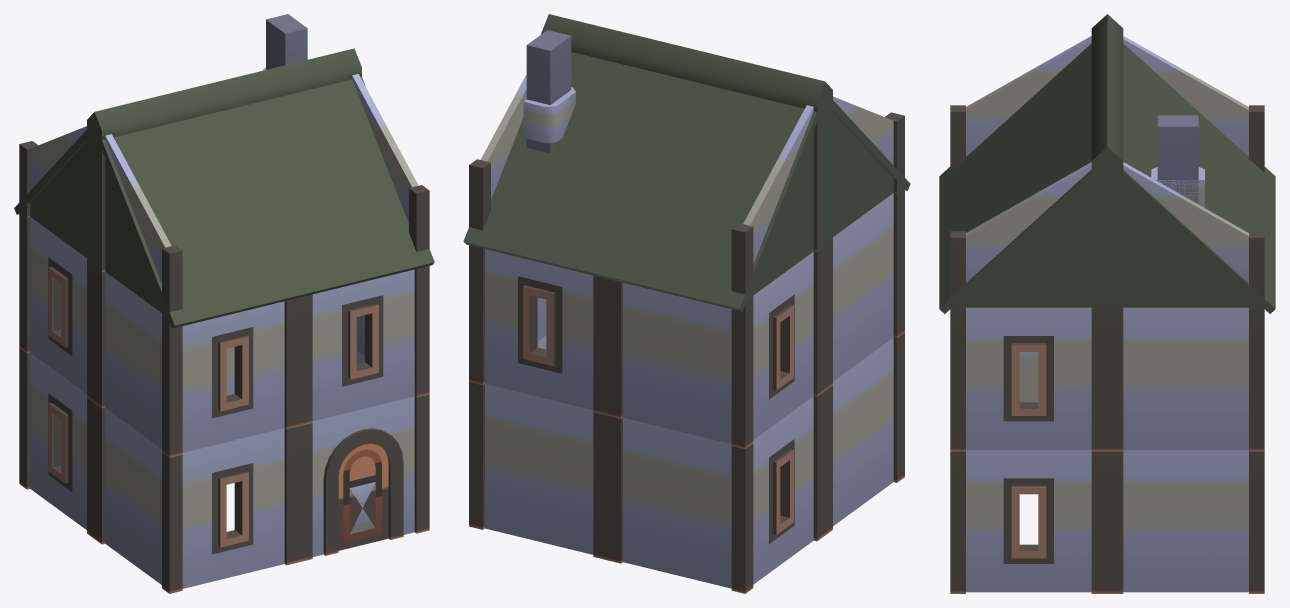
Rendered from maison-elcres-2.glb.
3 views of the same model, side by side, from view 1: azimuth 30°, elevation 25°; view 2: azimuth 150°, elevation 25°; view 3: azimuth 270°, elevation 25° (orthographic). The views are drawn at different scales.
Parts seen in each view (by area): view 1: wall-window-small, roof-high; view 2: wall-window-small, roof-high; view 3: wall-window-small, roof-high.
Boxes of the visible parts, x1=… form: wall-window-small: x1=19, y1=14, x2=429, y2=593; roof-high: x1=14, y1=48, x2=434, y2=328; wall-window-small: x1=469, y1=30, x2=904, y2=593; roof-high: x1=463, y1=14, x2=910, y2=311; wall-window-small: x1=950, y1=36, x2=1264, y2=593; roof-high: x1=939, y1=14, x2=1275, y2=313.
Bounding box in the file's own units: 6 × 9.6 × 6.42.
2 materials, 1 textured.
